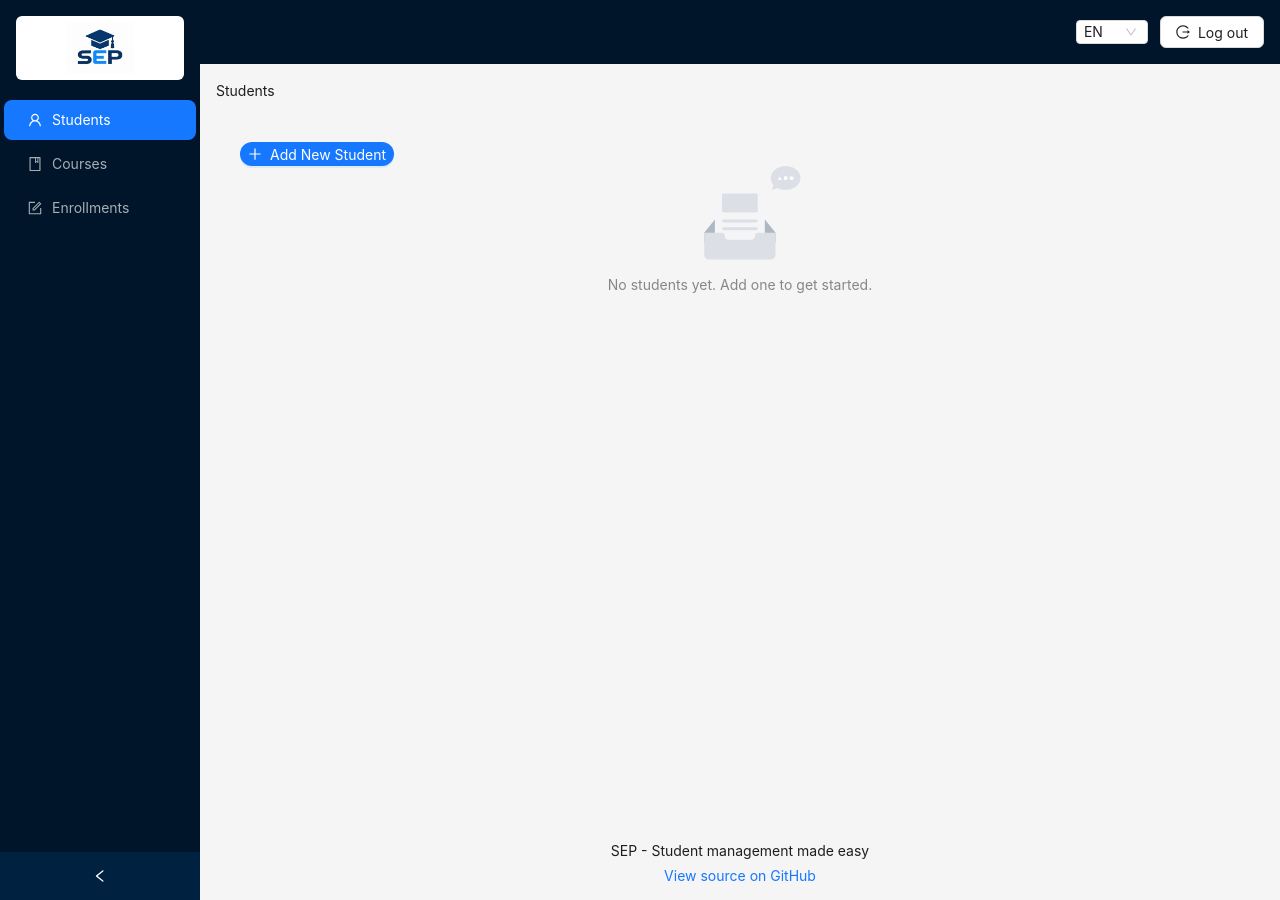
App › opens the create drawer from the empty state
Step 1. Click the button "Add New Student" → (317, 154), box 240,142 -> 394,166
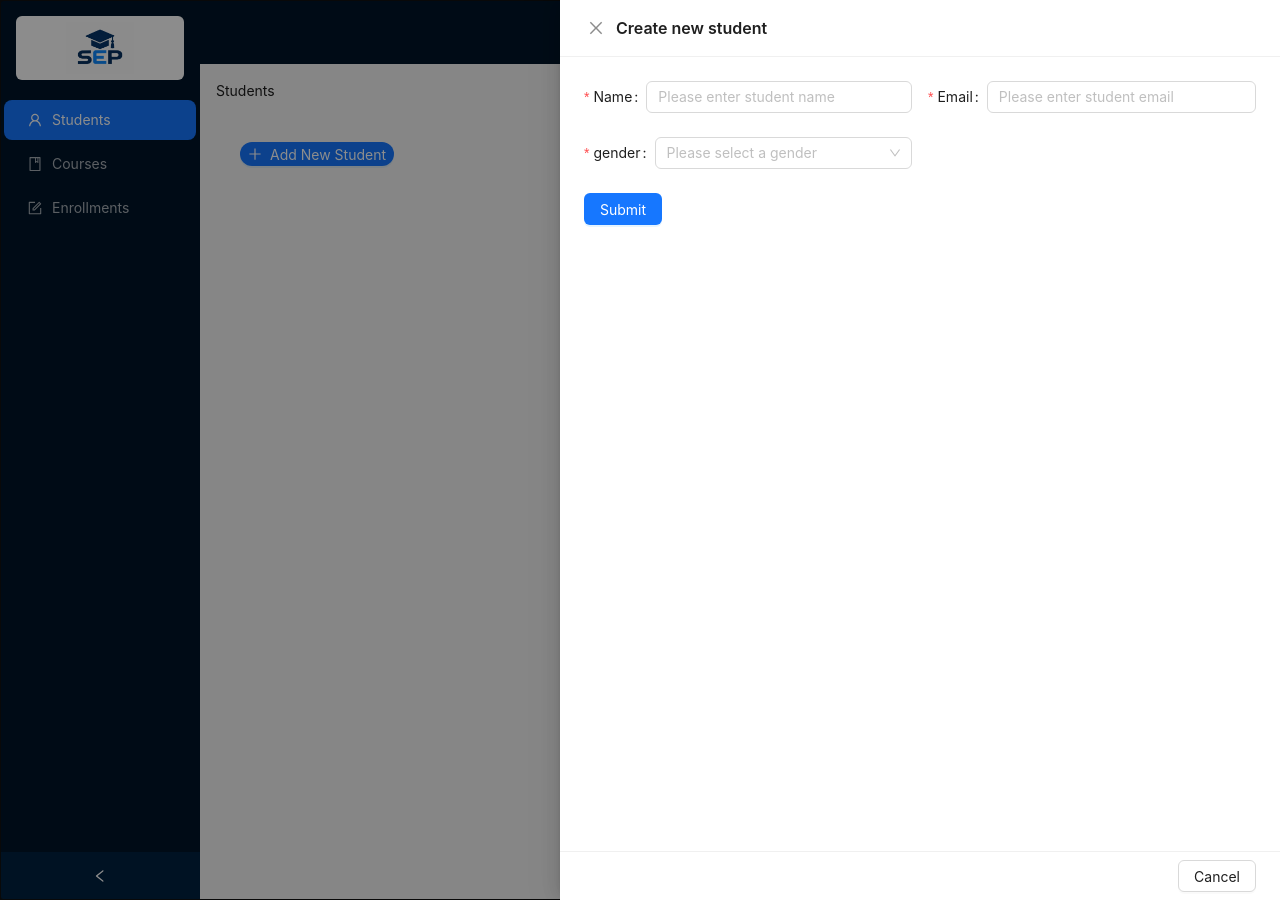
Result: the text "Create new student" is shown at 616,18 -> 767,38
